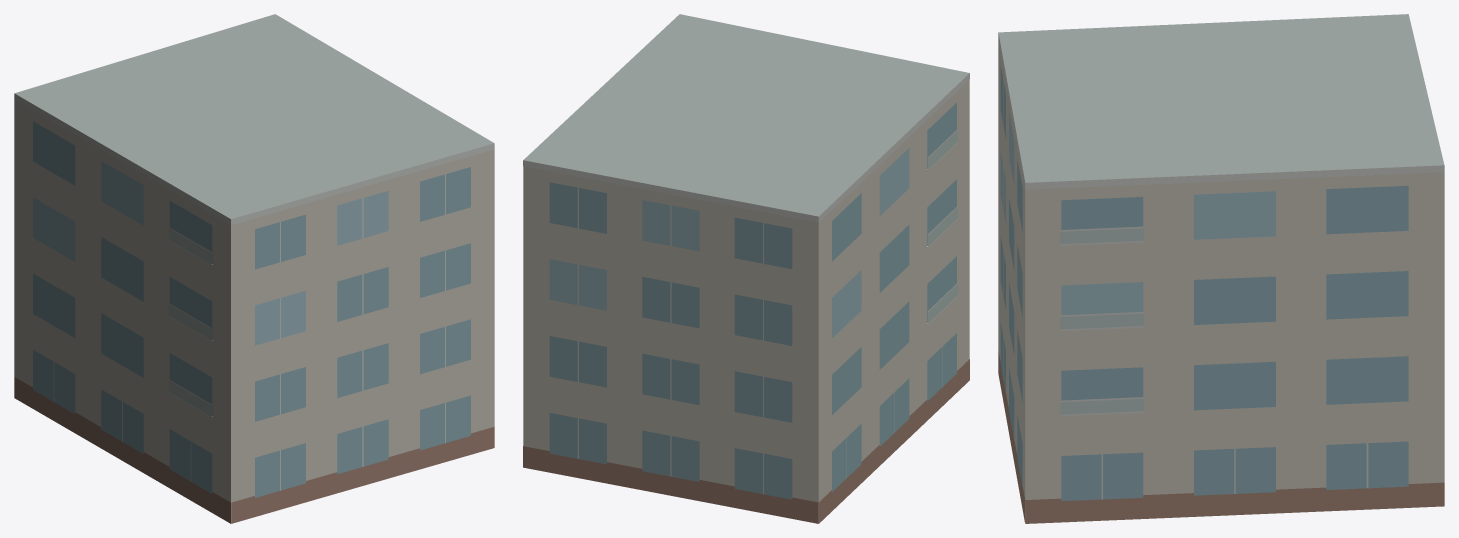
The model's file is survey-upis-32610266.glb.
3 renders of one model, left to right at view 1: azimuth 30°, elevation 25°; view 2: azimuth 150°, elevation 25°; view 3: azimuth 270°, elevation 25°, orthographic. The views are drawn at different scales.
Visible parts, largest first — view 1: survey-upis-32610266.tmp; view 2: survey-upis-32610266.tmp; view 3: survey-upis-32610266.tmp.
Boxes of the visible parts, x1,y1,x2,y2 form: survey-upis-32610266.tmp: [14, 14, 494, 523]; survey-upis-32610266.tmp: [523, 14, 969, 523]; survey-upis-32610266.tmp: [998, 14, 1444, 523].
Bounding box in the file's own units: 12.96 × 12.2 × 14.47.
